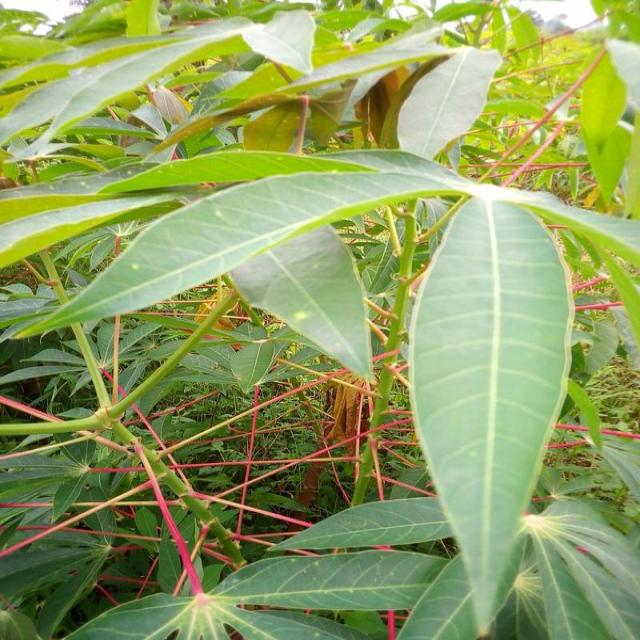cassava leaf: (407, 191, 576, 635)
